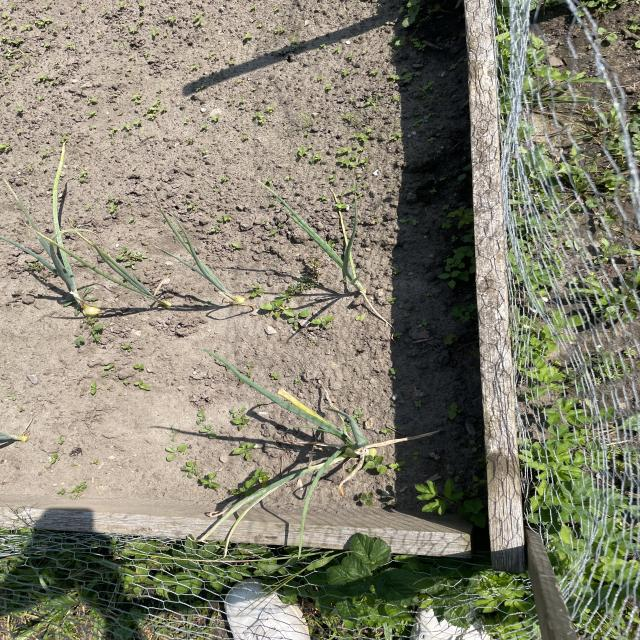Onion: (253, 378, 412, 522), (284, 188, 389, 318), (17, 188, 106, 318), (145, 207, 251, 306), (87, 246, 180, 314)
weed: (71, 314, 153, 399), (412, 480, 504, 535), (439, 190, 485, 298), (252, 289, 345, 335), (157, 441, 226, 494), (359, 451, 407, 482)
